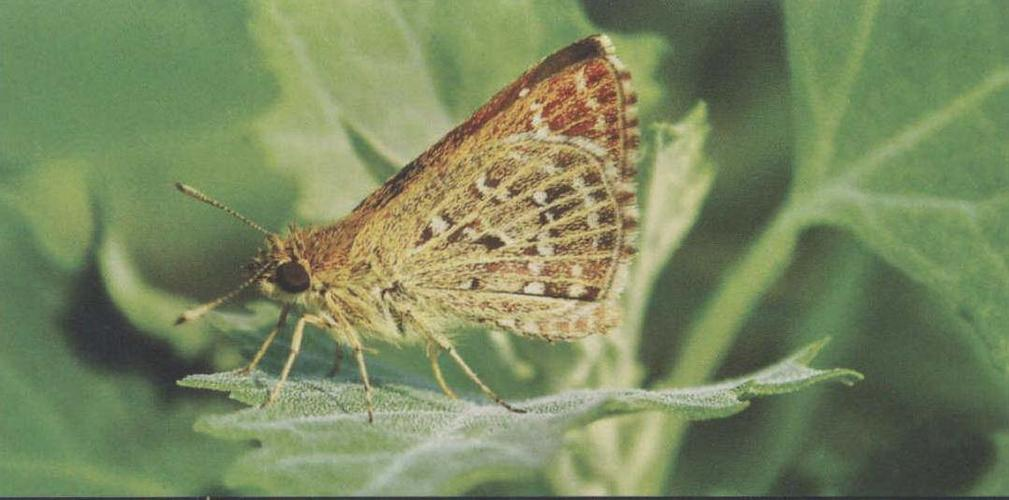Hesperiidae: (156, 30, 660, 416)
